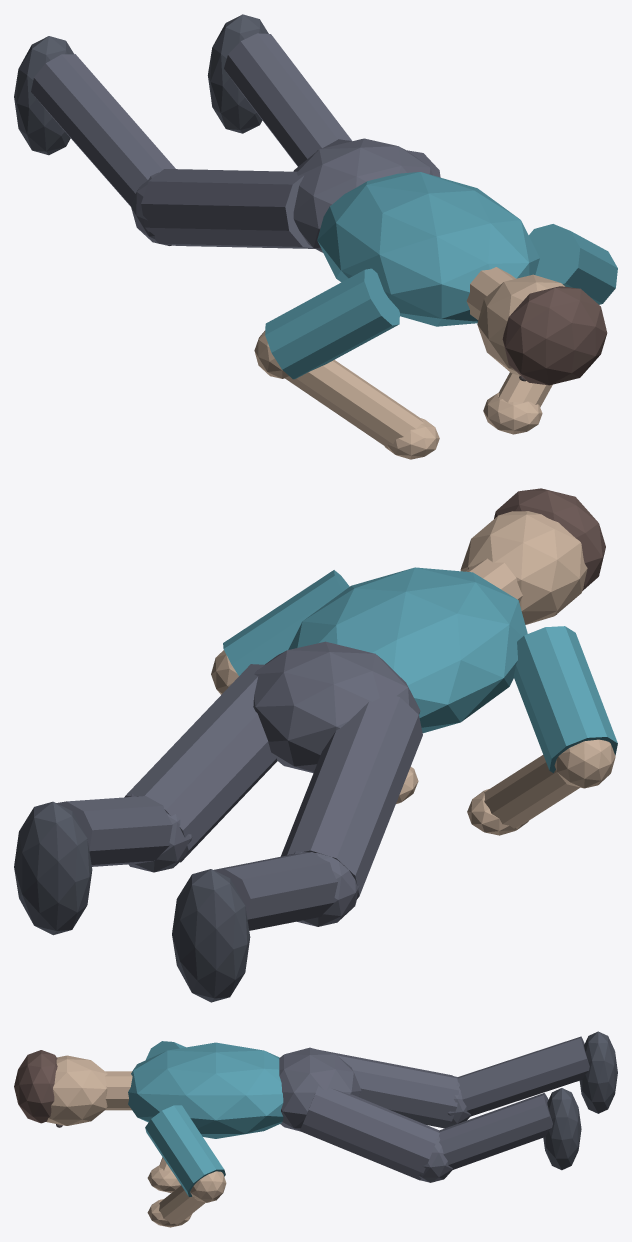
3 views of the same model, one above another, from view 1: azimuth 30°, elevation 25°; view 2: azimuth 150°, elevation 25°; view 3: azimuth 270°, elevation 25° (orthographic). The views are drawn at different scales.
Visible parts, largest first — view 1: world; view 2: world; view 3: world.
Part boxes in pixels (x1,y1,x2,y2): world: (14, 14, 617, 459); world: (14, 488, 617, 1002); world: (14, 1031, 617, 1227).
Bounding box in the file's own units: 0.93 × 0.565 × 1.99.
